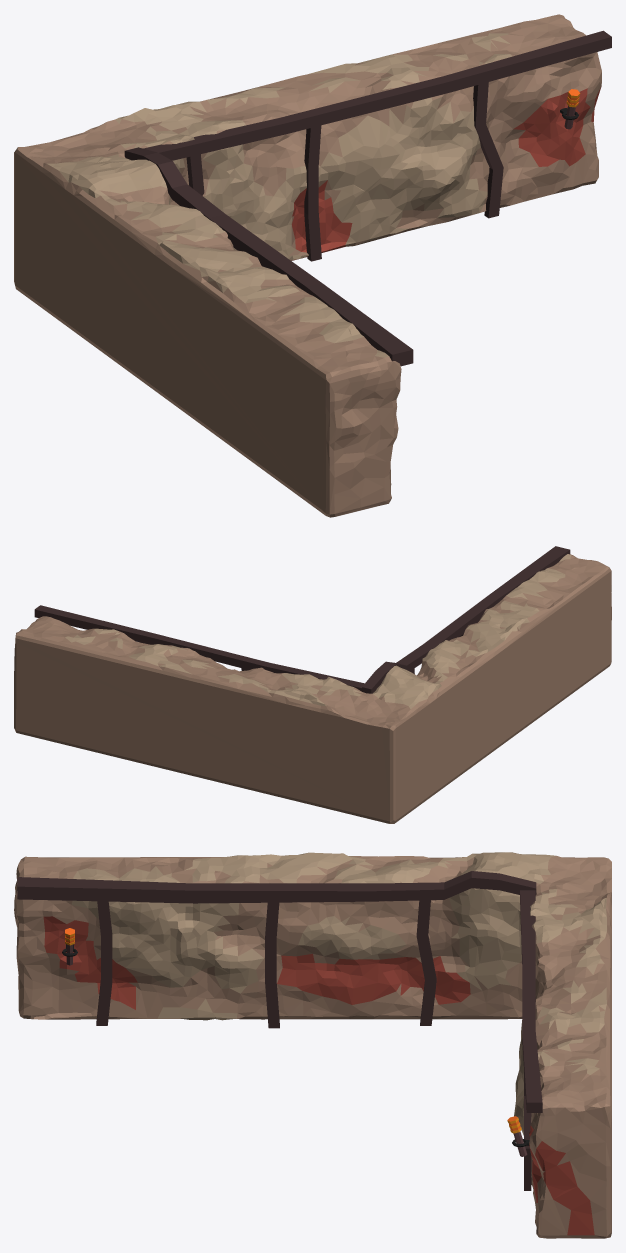
The model's file is Pared 4.fbx.
3 views of the same model, one above another, from view 1: azimuth 30°, elevation 25°; view 2: azimuth 150°, elevation 25°; view 3: azimuth 270°, elevation 25° (orthographic). The views are drawn at different scales.
Visible parts, largest first — view 1: Pared 4, Madera.003; view 2: Pared 4, Madera.003; view 3: Pared 4, Madera.003.
Boxes of the visible parts, bbox=[...] form: Pared 4: bbox=[14, 14, 601, 517]; Madera.003: bbox=[124, 30, 611, 366]; Pared 4: bbox=[14, 554, 611, 823]; Madera.003: bbox=[34, 546, 570, 693]; Pared 4: bbox=[14, 852, 611, 1238]; Madera.003: bbox=[17, 871, 542, 1190].
Bounding box in the file's own units: 808 × 225 × 806.
